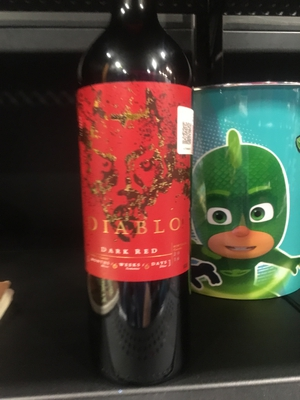diablo dark red: (72, 24, 204, 357)
